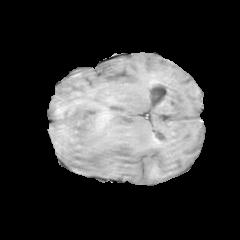glioma: (53, 108, 132, 173)
